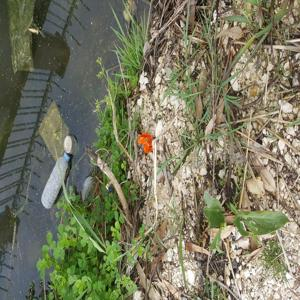metal: (61, 129, 85, 155)
plastic: (37, 101, 73, 160), (135, 131, 160, 157), (59, 150, 75, 161)
plastic bottle: (35, 153, 81, 212)
